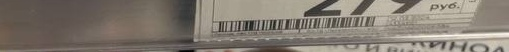1d: (218, 15, 378, 33)
